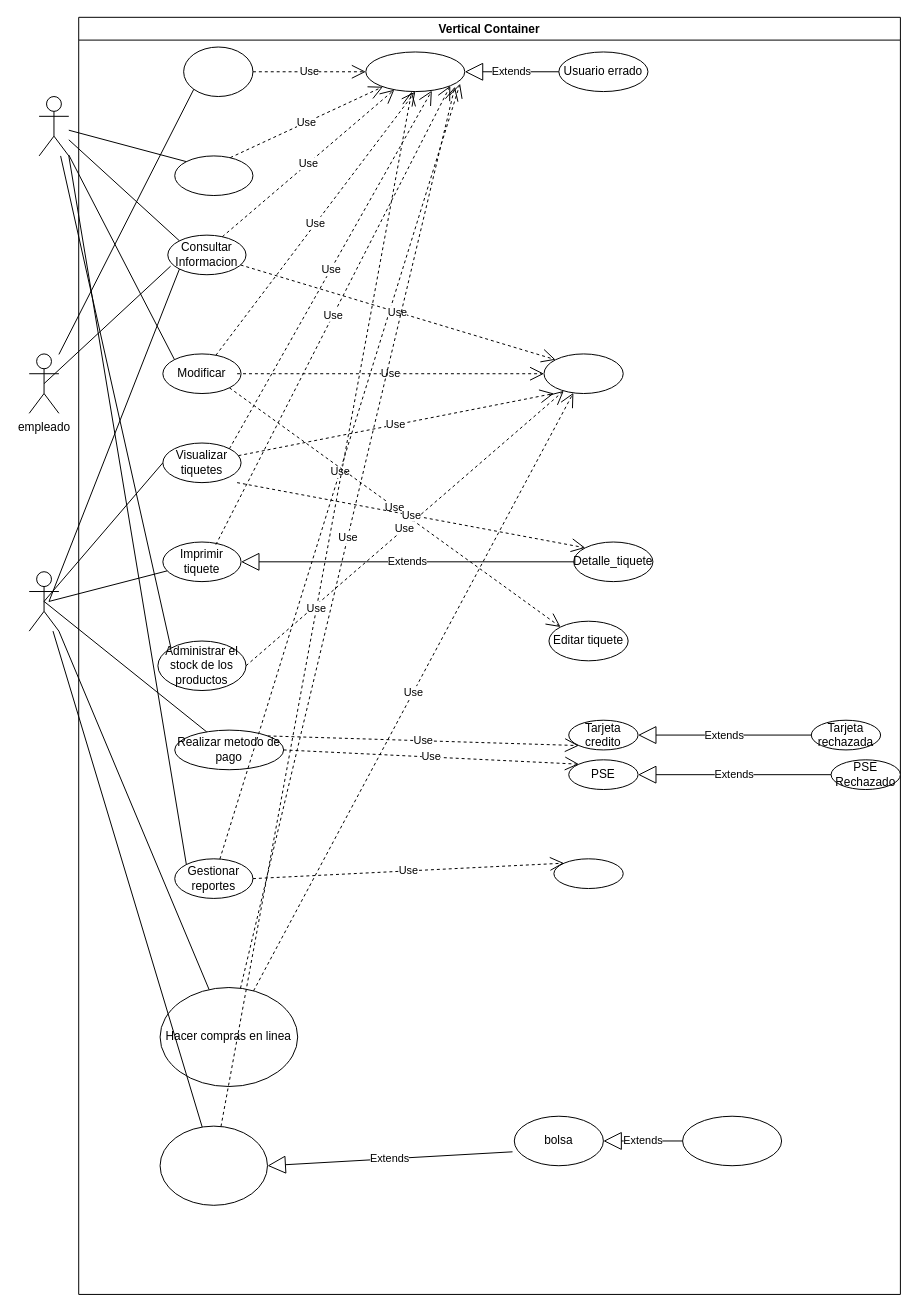
The diagram is 918 pixels wide and 1312 high, and some of its shapes have lost their labels. Here are the shapes that lost their labels. From the top down, the box of each, then its label:
(183, 46, 253, 97): Ingresar al sistema
(365, 51, 465, 92): identificar y validar usuario
(38, 96, 69, 156): Administrador
(174, 155, 253, 196): Registrar persona
(543, 353, 623, 394): Ver Productos
(28, 571, 59, 631): usuario
(553, 858, 623, 889): Ver Reporte
(682, 1115, 782, 1166): Mostrar productos dentro de la bolsa
(159, 1125, 267, 1205): Añadir a la bolsa
